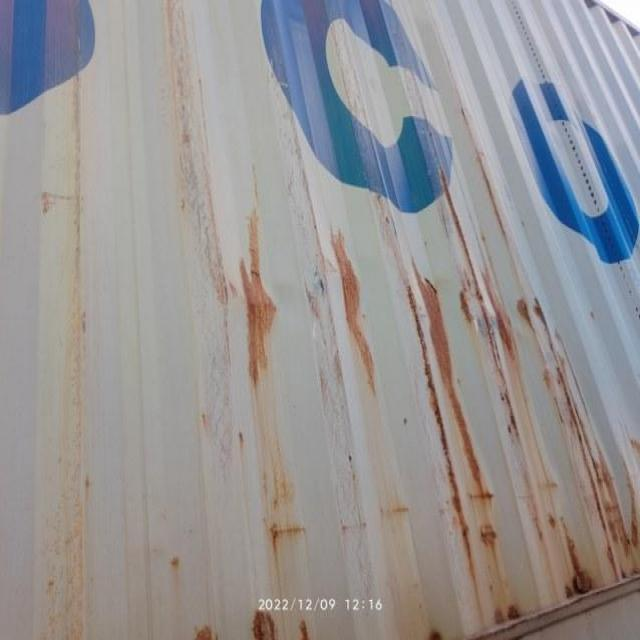Rust: (426, 279, 455, 408), (515, 287, 551, 346), (244, 273, 276, 339), (567, 559, 597, 590)
